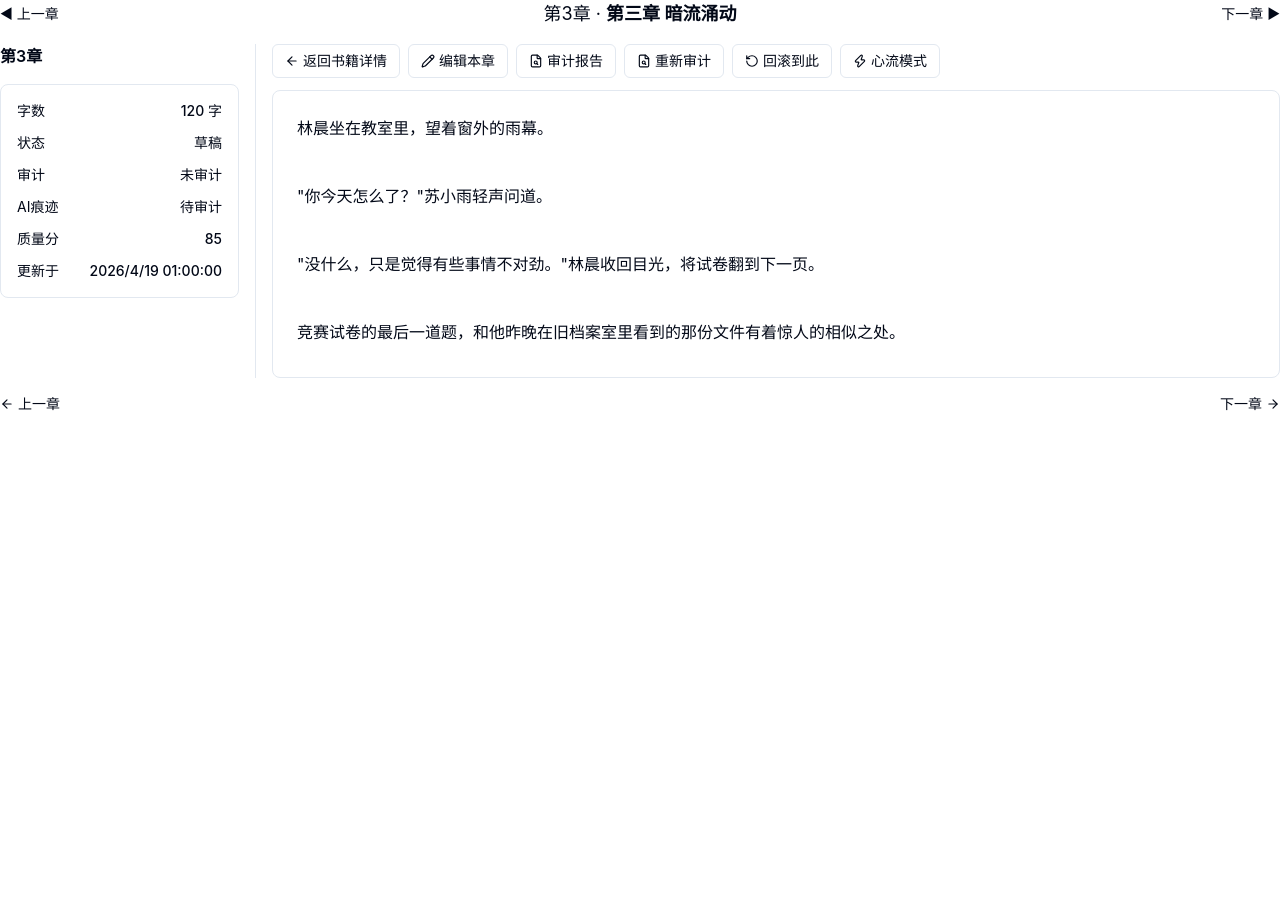
Test: ChapterReader Page › opens rollback dial from the toolbar
Expected: the heading "第3章 · 第三章 暗流涌动" is shown, [544,0,736,28]
Click the button titled "回滚到此": {"x": 782, "y": 61} [732,44,832,78]
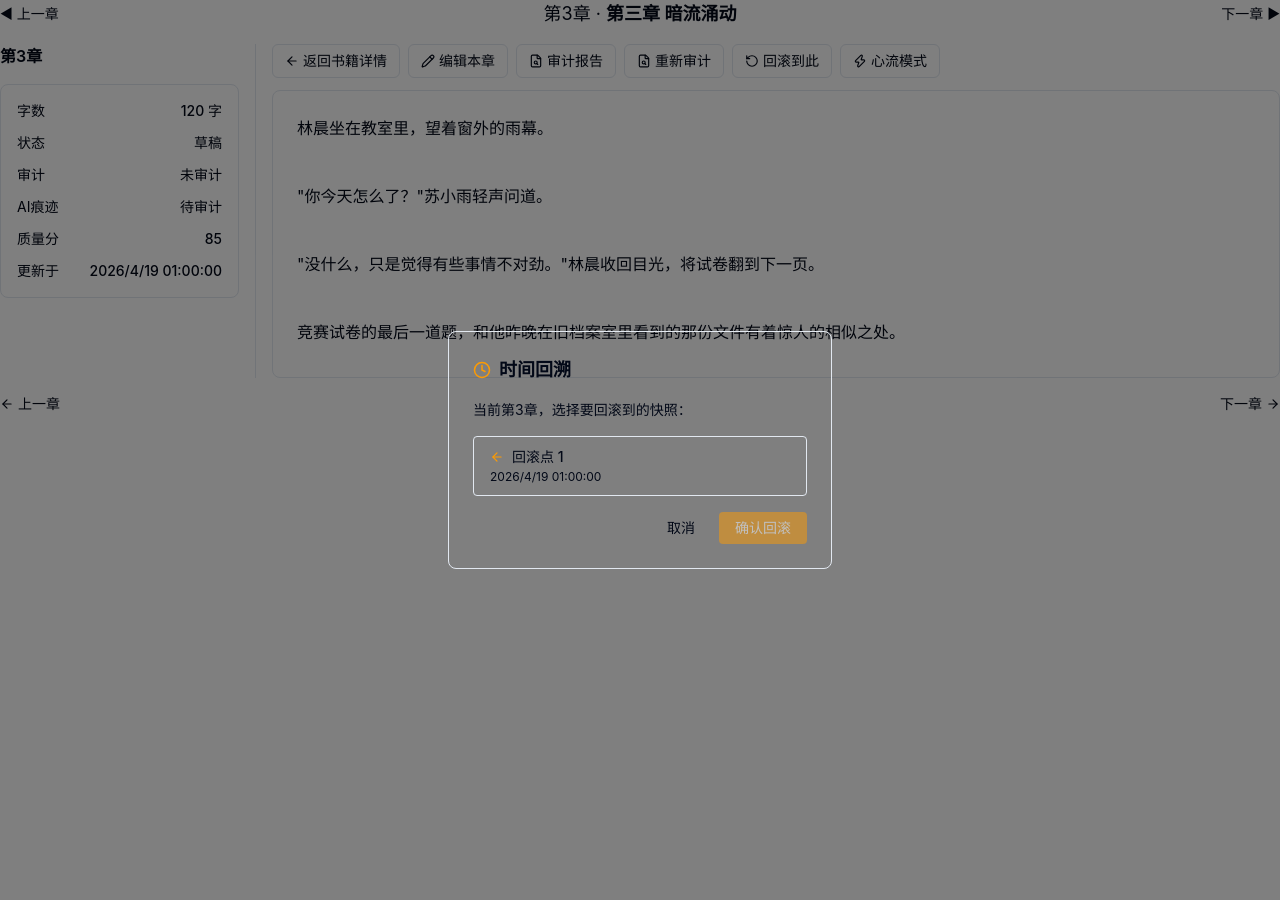
Expected: the heading "时间回溯" is shown, [499,356,571,384]
